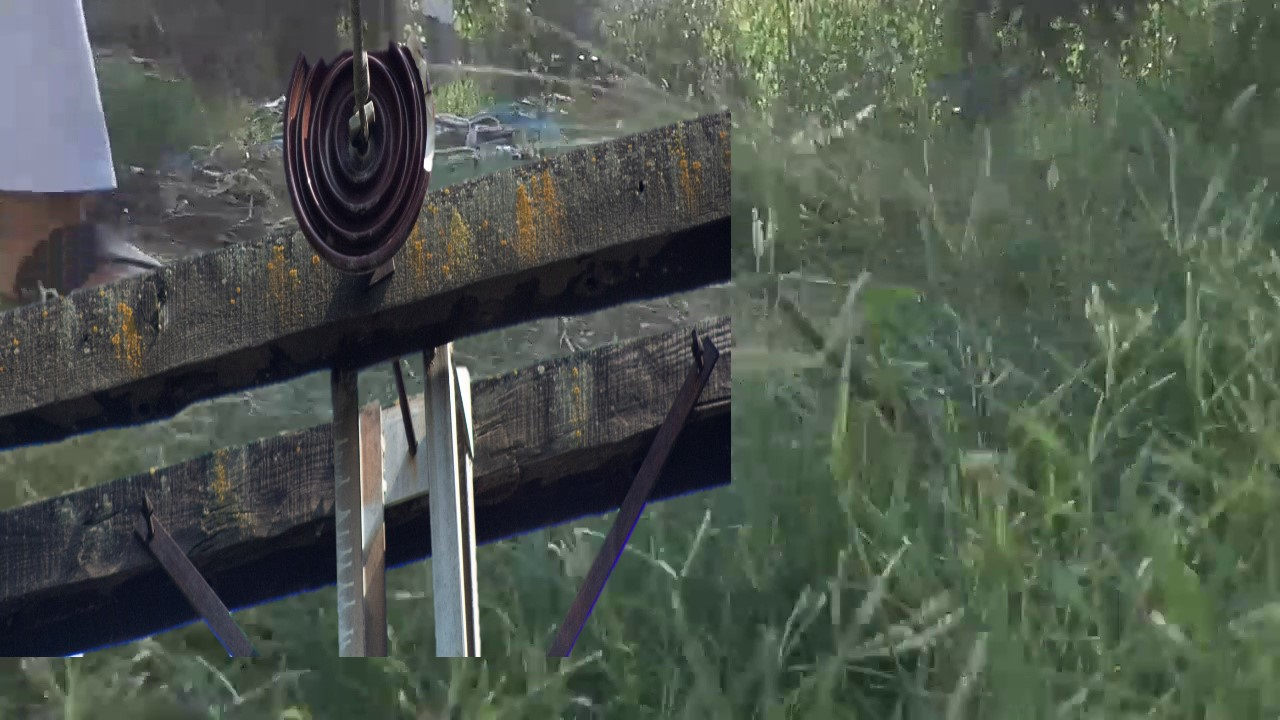defect_disc: (281, 34, 442, 286)
